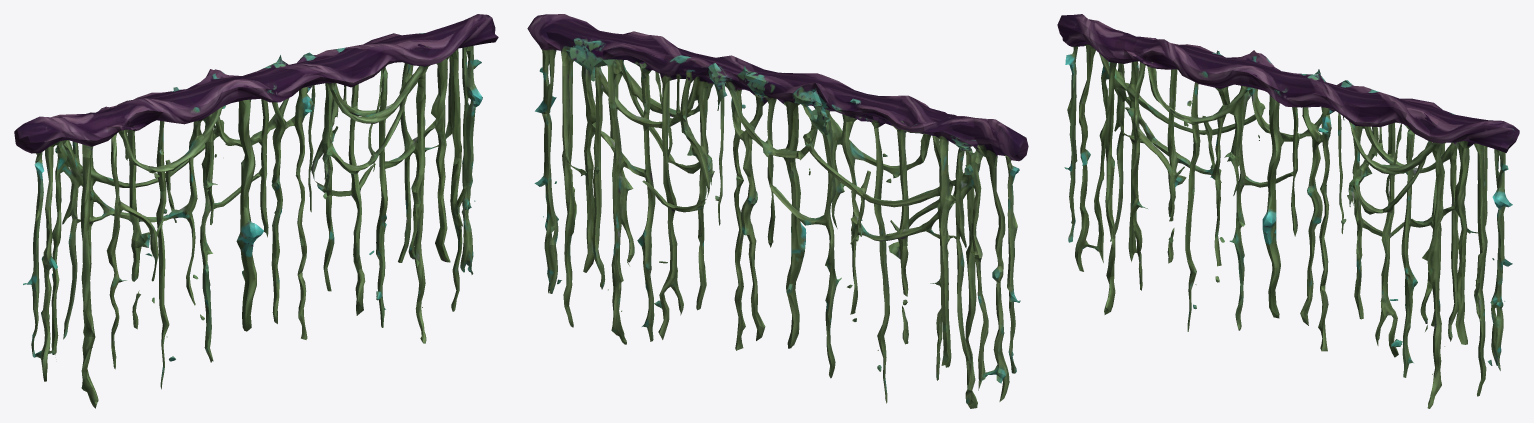
File: env_vine_curtain_4m_a.glb
3 views of the same model, side by side, from view 1: azimuth 30°, elevation 25°; view 2: azimuth 150°, elevation 25°; view 3: azimuth 330°, elevation 25° (orthographic). The views are drawn at different scales.
Parts seen in each view (by area): view 1: Mesh0; view 2: Mesh0; view 3: Mesh0.
Part boxes in pixels (bbox=[...]): Mesh0: bbox=[14, 14, 498, 408]; Mesh0: bbox=[527, 14, 1028, 408]; Mesh0: bbox=[1057, 14, 1519, 408].
Bounding box in the file's own units: 1.86 × 1.16 × 0.1733.
Materials: 1 (1 with a texture image).
